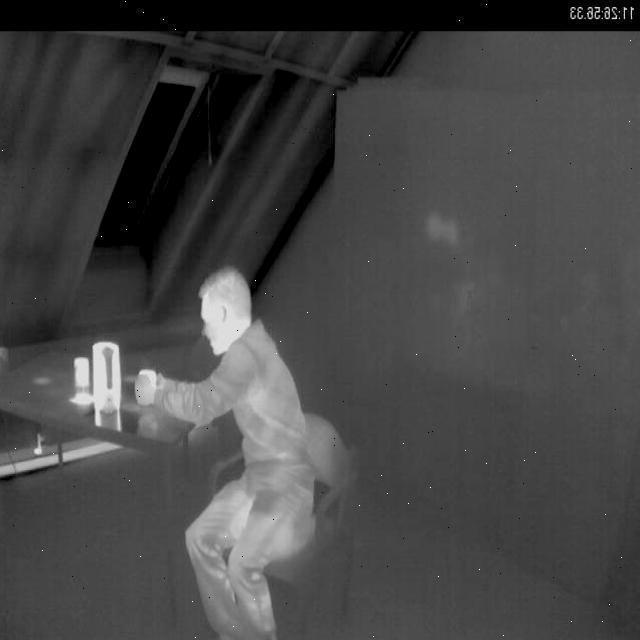person: (136, 255, 345, 640)
